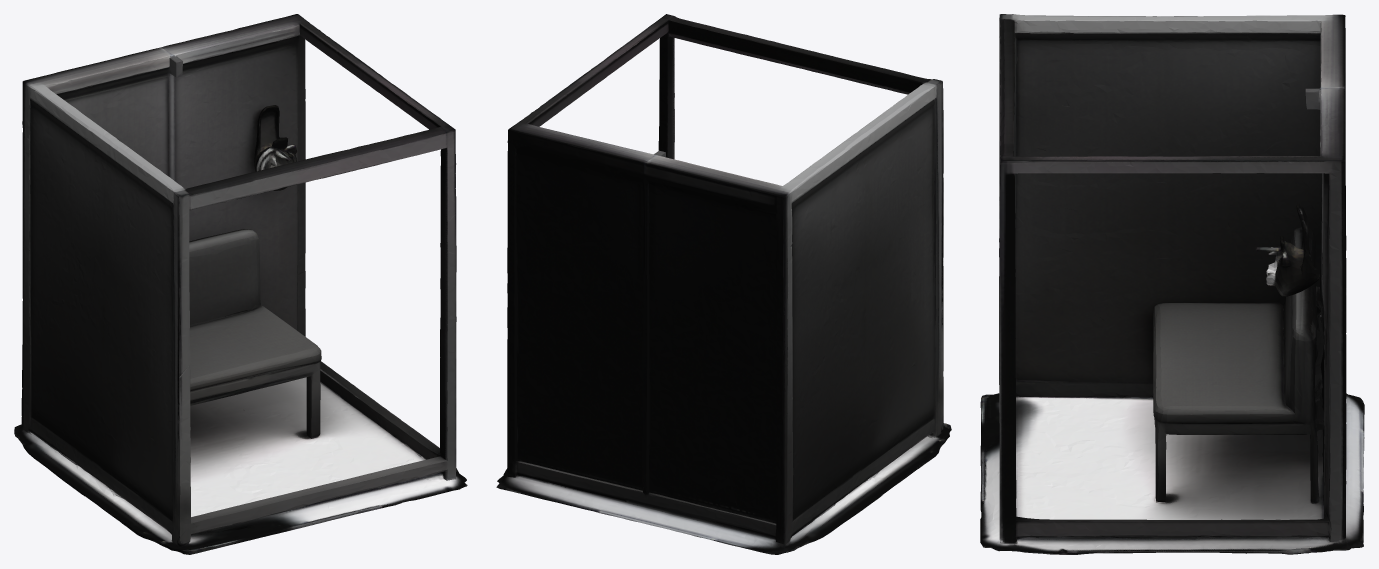
3 renders of one model, left to right at view 1: azimuth 30°, elevation 25°; view 2: azimuth 150°, elevation 25°; view 3: azimuth 270°, elevation 25°, orthographic. The views are drawn at different scales.
Visible parts, largest first — view 1: world; view 2: world; view 3: world.
Part boxes in pixels (left/top/right/bottom): world: left=14, top=14, right=467, bottom=554; world: left=496, top=14, right=951, bottom=554; world: left=980, top=14, right=1364, bottom=554.
Bounding box in the file's own units: 0.928 × 1 × 0.9062.
Materials: 1 (1 with a texture image).
